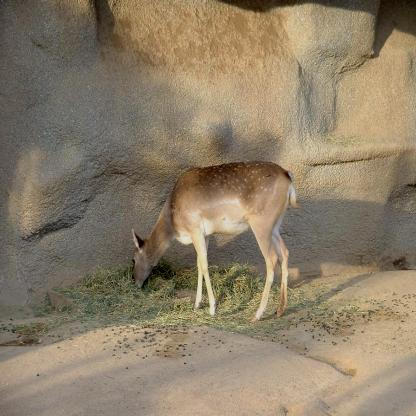Deer: (128, 155, 299, 324)
